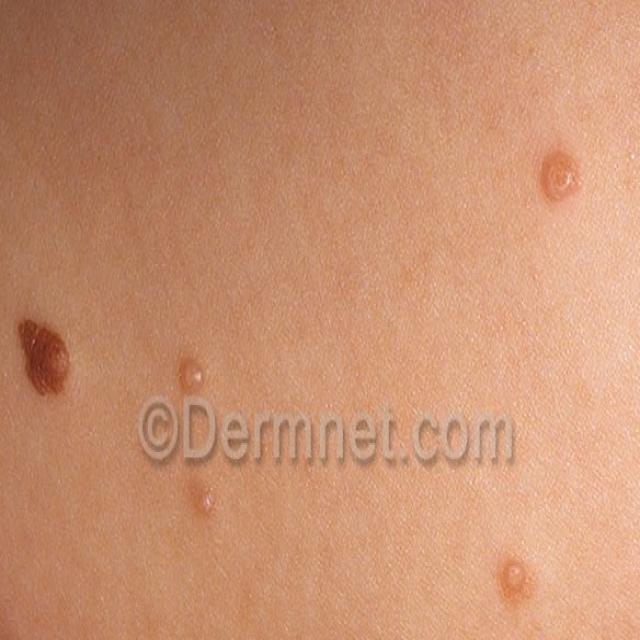Viral Infections: (149, 334, 259, 580), (18, 305, 80, 433), (487, 519, 550, 640), (521, 143, 596, 218)
